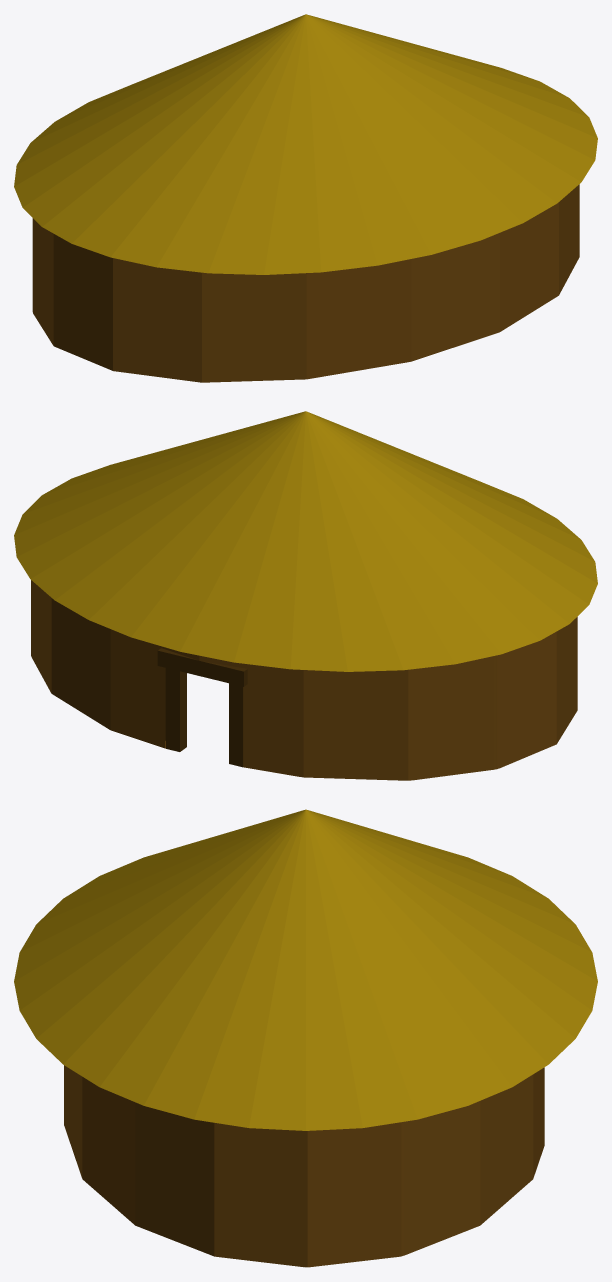
Rendered from house.fbx.
The picture shows the model from 3 angles, top to bottom: view 1: azimuth 30°, elevation 25°; view 2: azimuth 150°, elevation 25°; view 3: azimuth 270°, elevation 25°; orthographic projection. The views are drawn at different scales.
Parts seen in each view (by area): view 1: Cone; view 2: Cone; view 3: Cone.
Part boxes in pixels (left/top/right/bottom): Cone: left=14, top=14, right=597, bottom=382; Cone: left=14, top=411, right=597, bottom=780; Cone: left=14, top=809, right=597, bottom=1267.
Size of the model in its own units: 2893 by 1423 by 2390.
